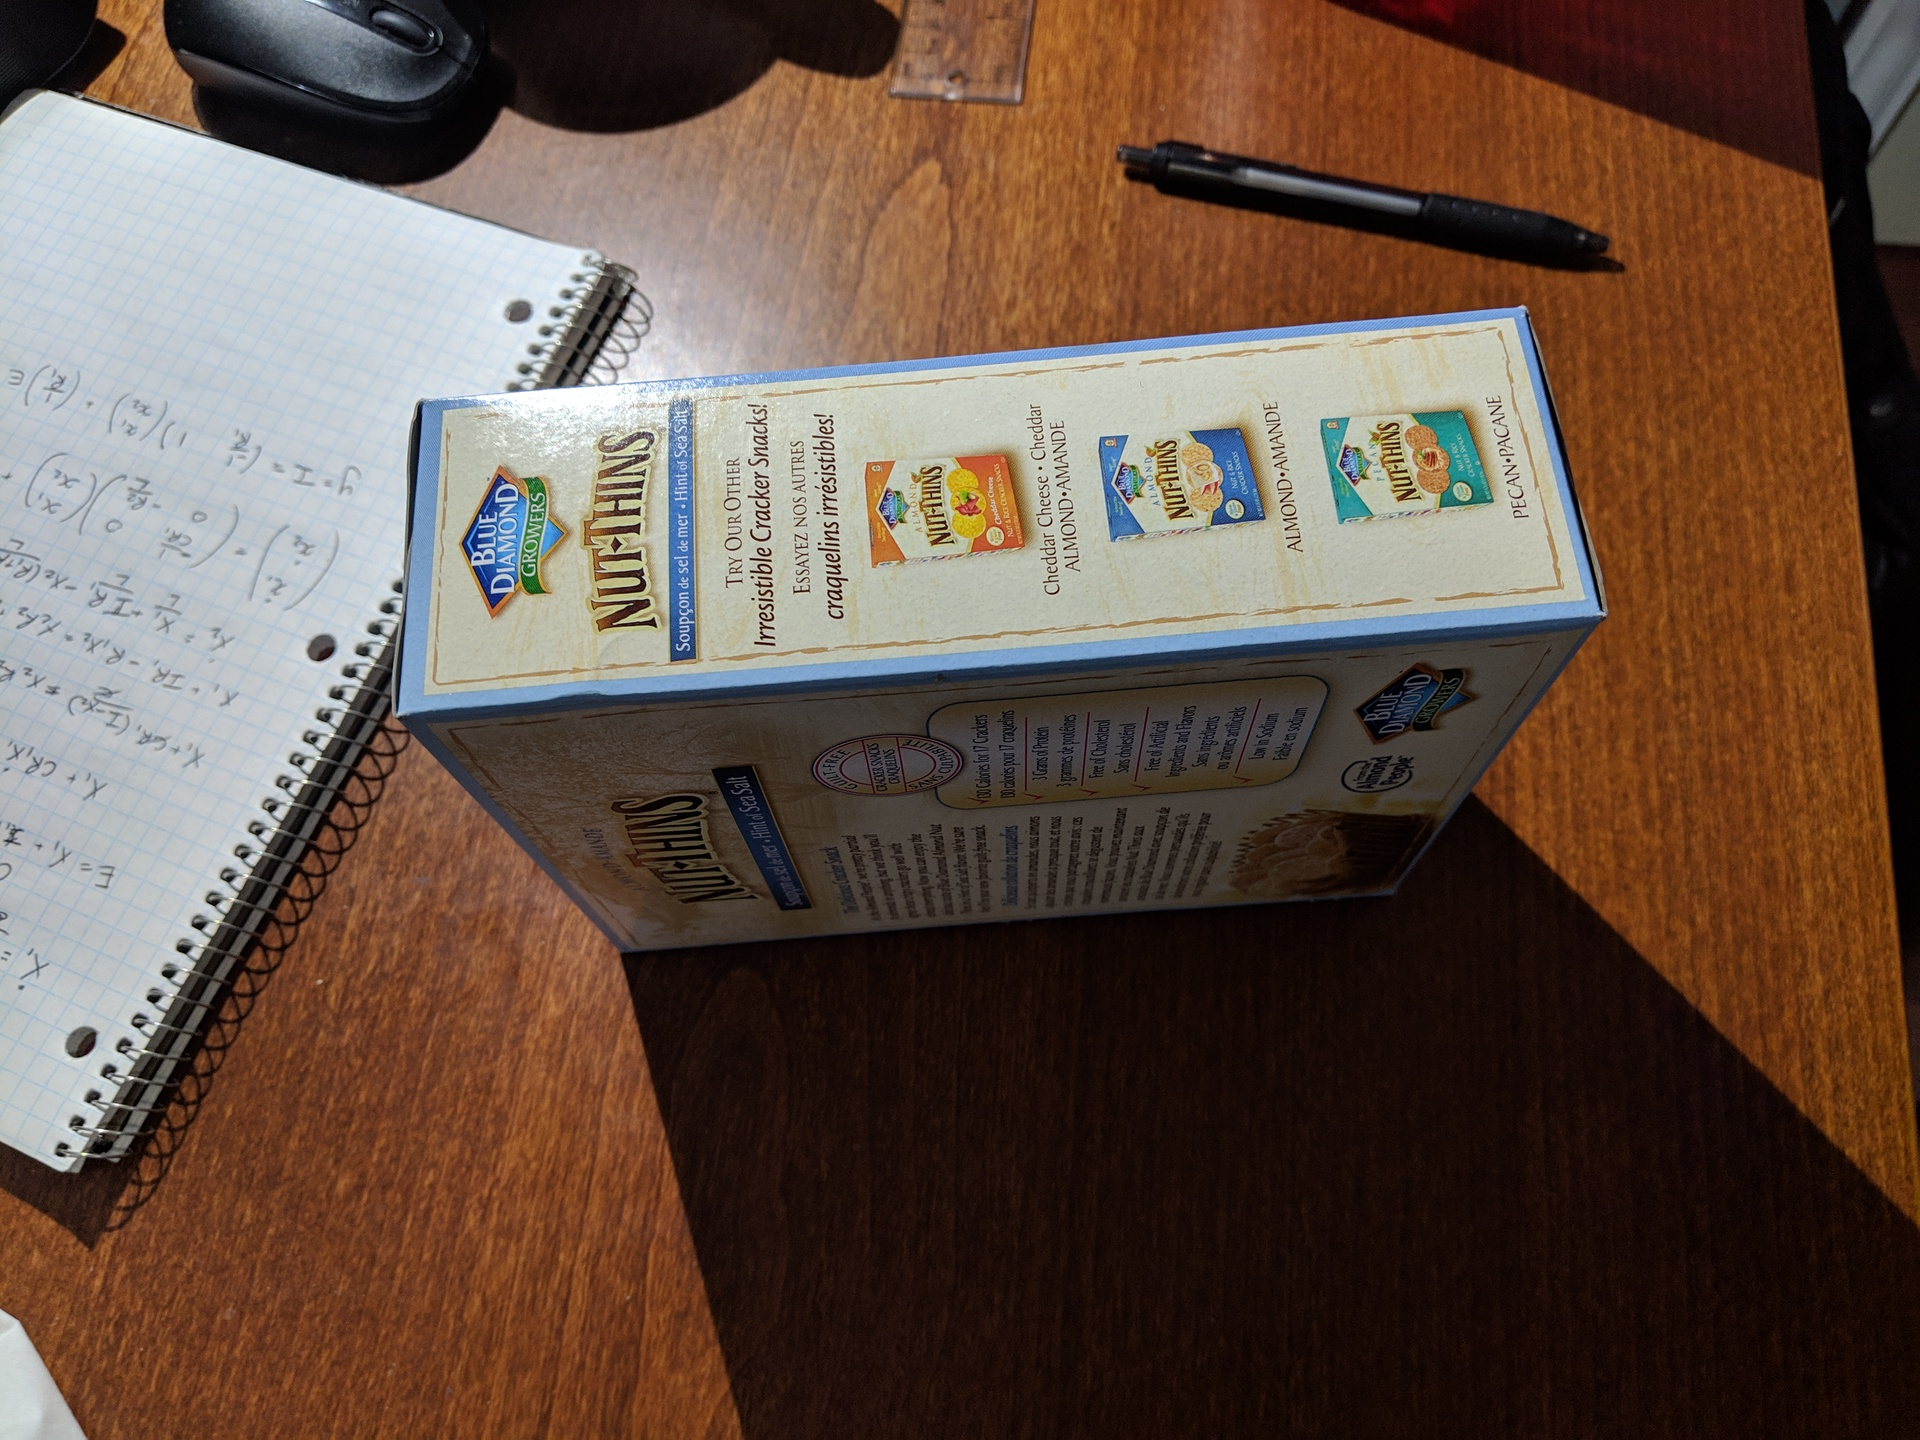blue_diamond_nut_thins_almond_seasalt: (413, 324, 1593, 939)
